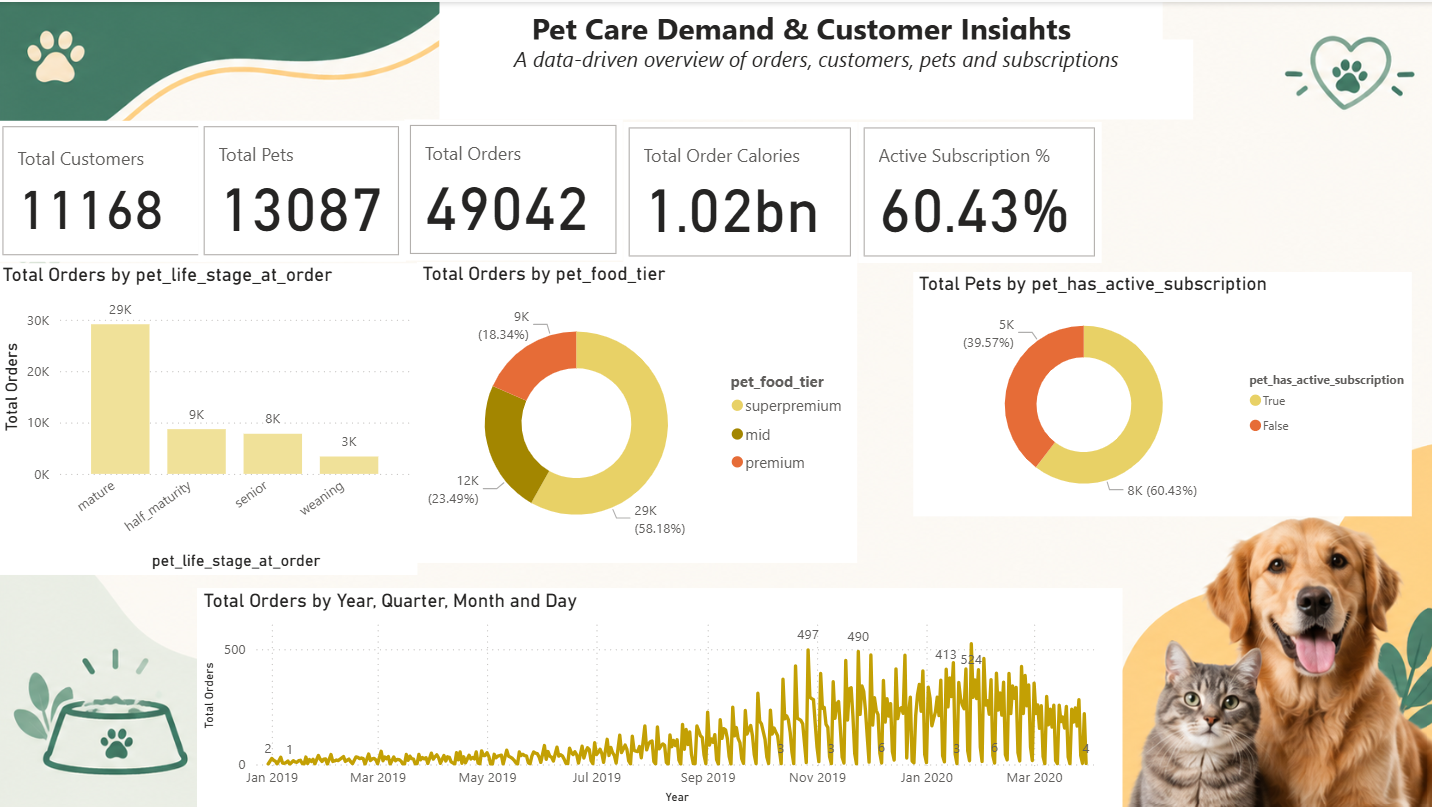

Layout of this report page (visuals, bound fields, positions):
{"tool":"powerbi","page":{"name":"Page 1","canvas":[1280,720],"ordinal":0},"visuals":[{"type":"cardVisual","fields":{"Data":["pet_food_customer_orders_cleaned.Total Customers"]},"box":[0,105.6,186.7,125.6],"z":0},{"type":"cardVisual","fields":{"Data":["pet_food_customer_orders_cleaned.Total Pets"]},"box":[178.9,105.6,184.4,125.6],"z":1000},{"type":"cardVisual","fields":{"Data":["pet_food_customer_orders_cleaned.Total Orders"]},"box":[363.3,104.4,194.4,125.6],"z":2000},{"type":"cardVisual","fields":{"Data":["pet_food_customer_orders_cleaned.Total Order Calories"]},"box":[557.8,106.7,208.9,125.6],"z":3000},{"type":"cardVisual","fields":{"Data":["pet_food_customer_orders_cleaned.Active Subscription %"]},"box":[766.7,106.7,216.7,125.6],"z":4000},{"type":"columnChart","fields":{"Category":["pet_food_customer_orders_cleaned.pet_life_stage_at_order"],"Y":["pet_food_customer_orders_cleaned.Total Orders"]},"box":[0,232.3,374.2,277.6],"z":5000},{"type":"donutChart","fields":{"Category":["pet_food_customer_orders_cleaned.pet_food_tier"],"Y":["pet_food_customer_orders_cleaned.Total Orders"]},"box":[374.2,231.1,392.2,268.3],"z":6000},{"type":"lineChart","fields":{"Y":["pet_food_customer_orders_cleaned.Total Orders"],"Category":["DateTable.Date.Variation.Date Hierarchy.Year","DateTable.Date.Variation.Date Hierarchy.Quarter","DateTable.Date.Variation.Date Hierarchy.Month","DateTable.Date.Variation.Date Hierarchy.Day"]},"box":[178.5,522.1,824.2,198.1],"z":7000},{"type":"donutChart","fields":{"Category":["pet_food_customer_orders_cleaned.pet_has_active_subscription"],"Y":["pet_food_customer_orders_cleaned.Total Pets"]},"box":[816.3,240.7,444.2,217.4],"z":8000},{"type":"textbox","box":[394.2,0,644.2,68.6],"z":9000},{"type":"textbox","box":[394.2,33.7,670.9,70.9],"z":10000}]}

Visuals, with their boxes in screenshot pixels (x1, y1, x2, y2), scaled from the page's 1280x720 canvas onto the 1432x807 screenshot:
cardVisual - pet_food_customer_orders_cleaned.Total Customers: bbox(0, 118, 209, 259)
cardVisual - pet_food_customer_orders_cleaned.Total Pets: bbox(200, 118, 406, 259)
cardVisual - pet_food_customer_orders_cleaned.Total Orders: bbox(406, 117, 624, 258)
cardVisual - pet_food_customer_orders_cleaned.Total Order Calories: bbox(624, 120, 858, 260)
cardVisual - pet_food_customer_orders_cleaned.Active Subscription %: bbox(858, 120, 1100, 260)
columnChart - pet_food_customer_orders_cleaned.pet_life_stage_at_order x pet_food_customer_orders_cleaned.Total Orders: bbox(0, 260, 419, 572)
donutChart - pet_food_customer_orders_cleaned.pet_food_tier x pet_food_customer_orders_cleaned.Total Orders: bbox(419, 259, 857, 560)
lineChart - pet_food_customer_orders_cleaned.Total Orders x DateTable.Date.Variation.Date Hierarchy.Year: bbox(200, 585, 1122, 806)
donutChart - pet_food_customer_orders_cleaned.pet_has_active_subscription x pet_food_customer_orders_cleaned.Total Pets: bbox(913, 270, 1410, 513)
textbox: bbox(441, 0, 1162, 77)
textbox: bbox(441, 38, 1192, 117)
